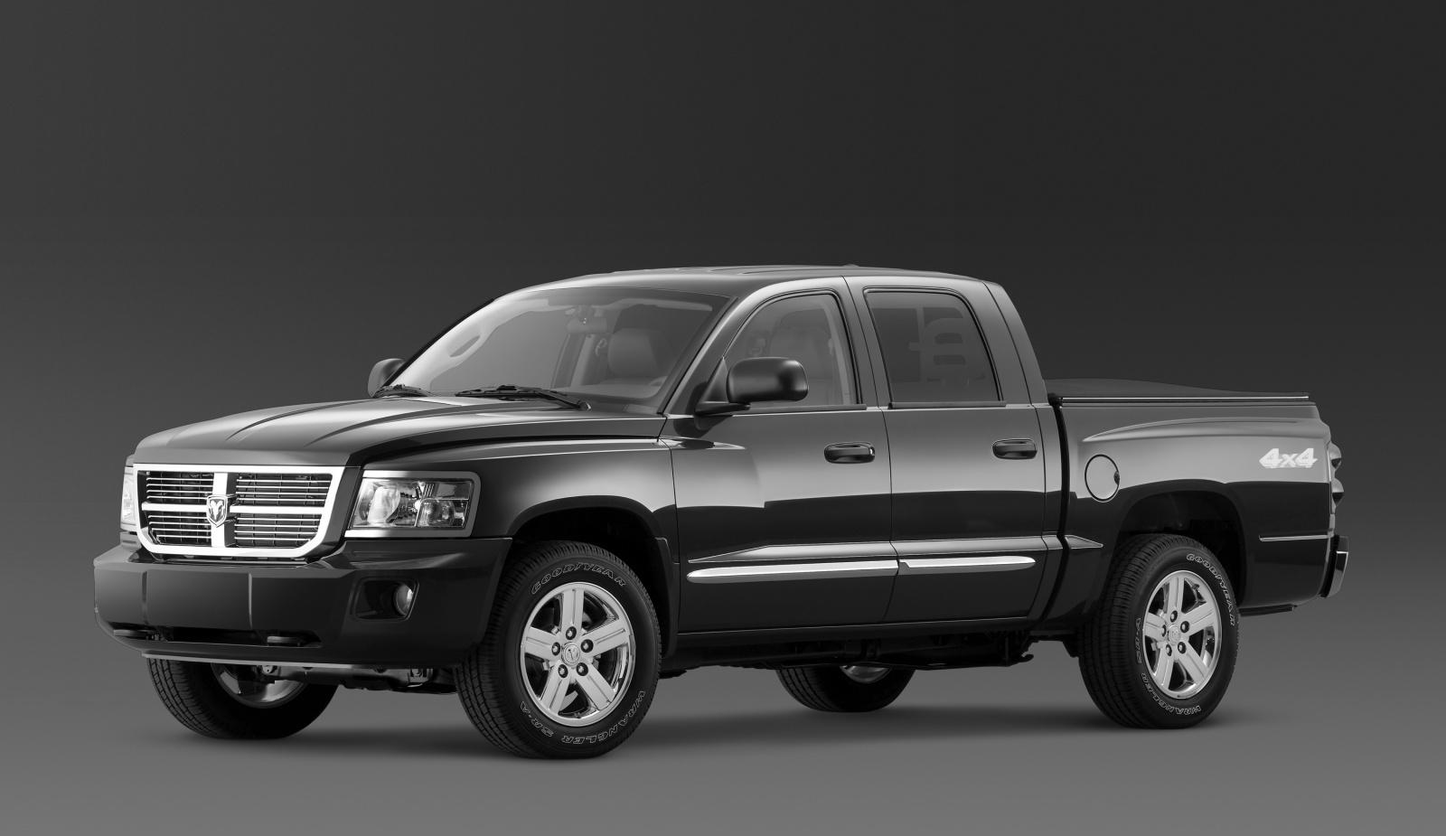car: (93, 264, 1351, 764)
